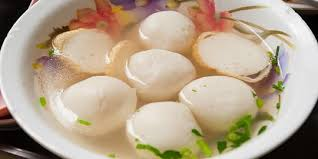bakso: (38, 4, 290, 159)
